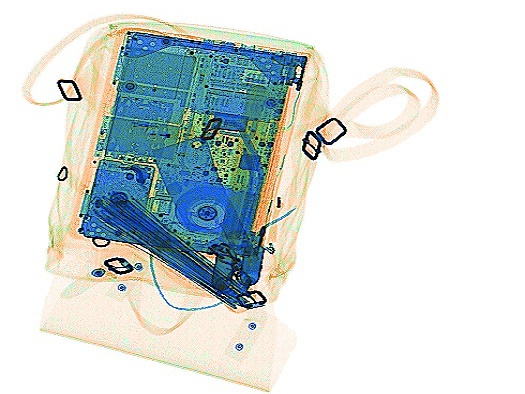knife: (148, 129, 261, 279)
